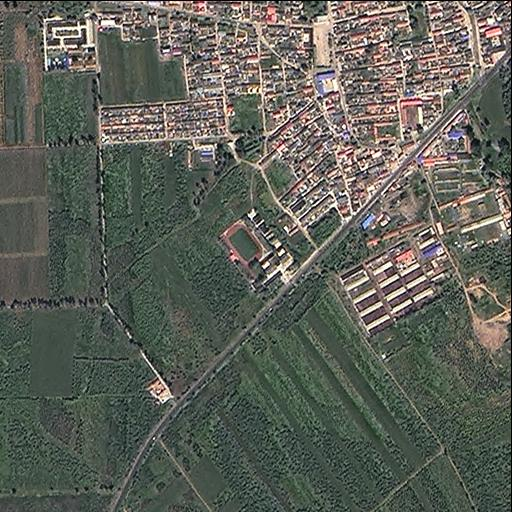school: (214, 205, 298, 301)
